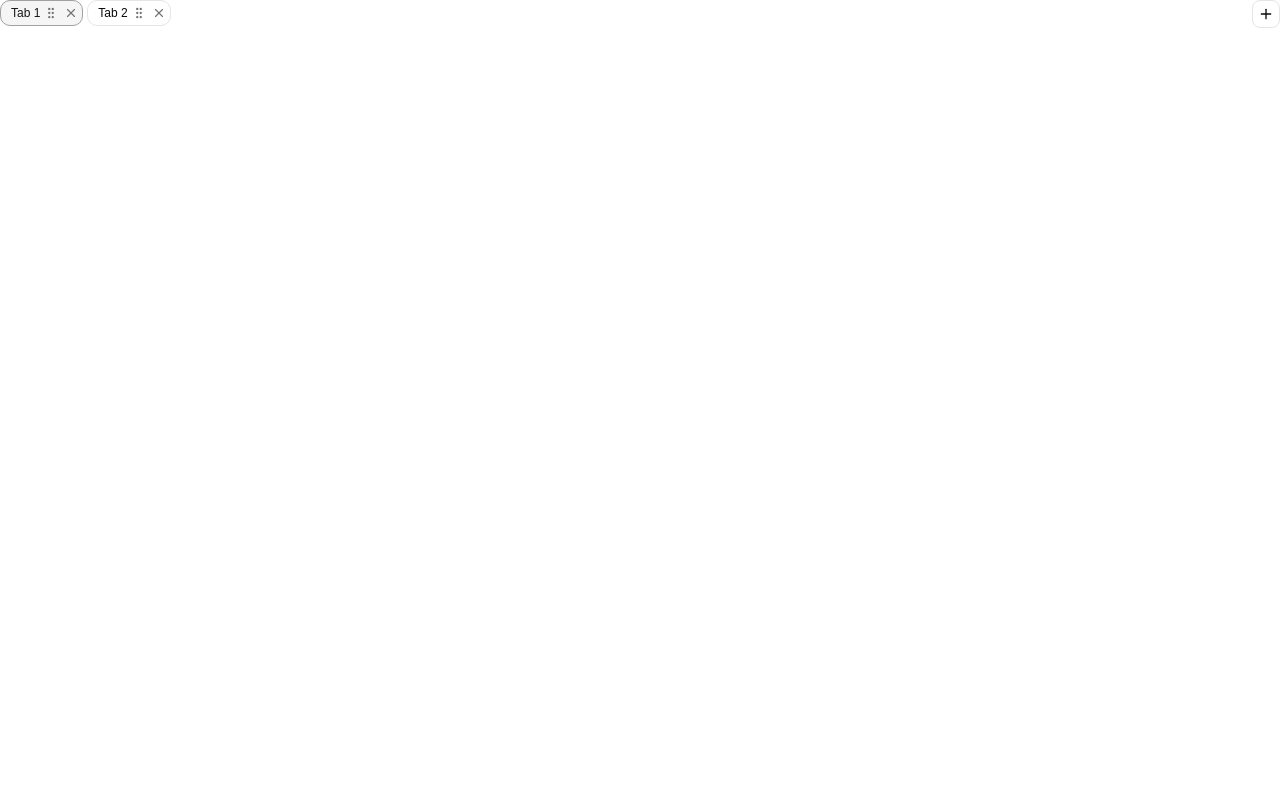
Test case: TabBar › xoá tab phải xác nhận trong hộp thoại
Later steps or results of the test are not shown.
Click the button named "Xoá tab Tab 2": (159, 13) [150,4,168,22]
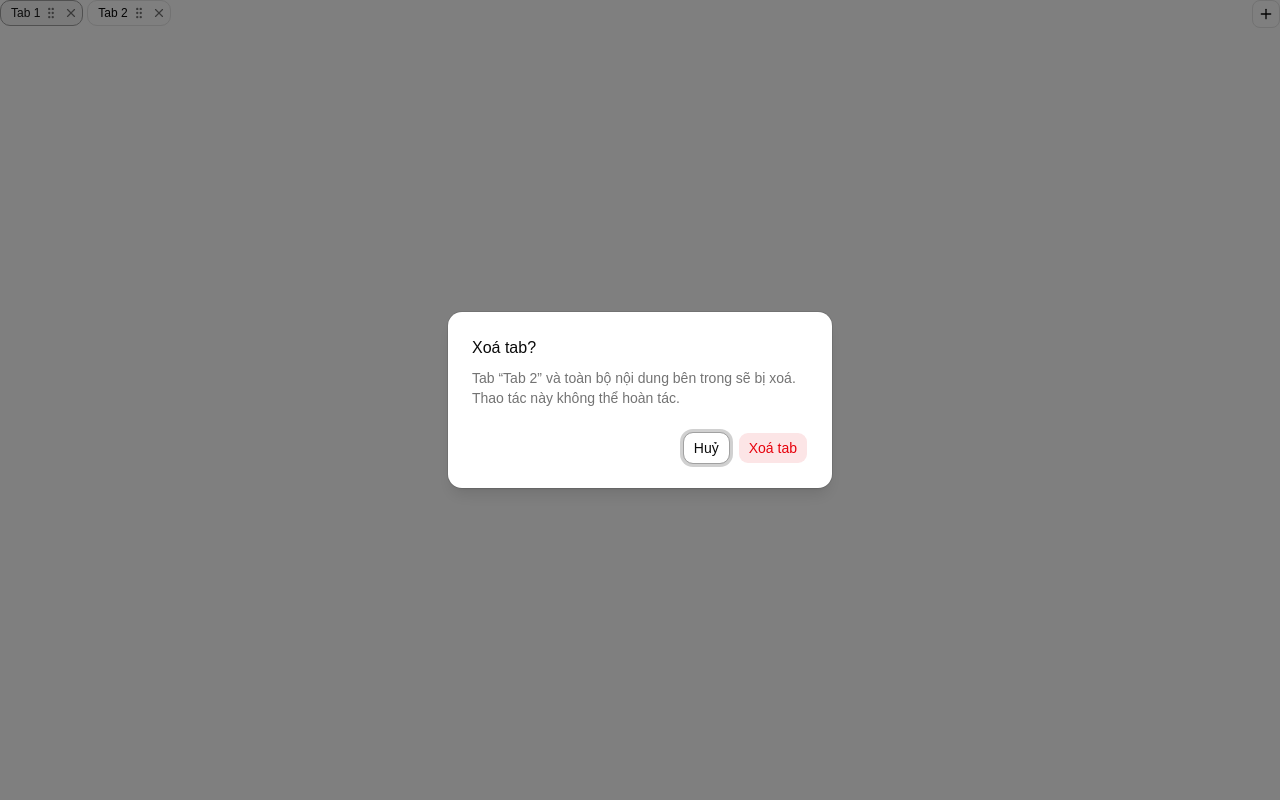
expect the heading "Xoá tab?" is shown: met, box [472,339,536,356]
